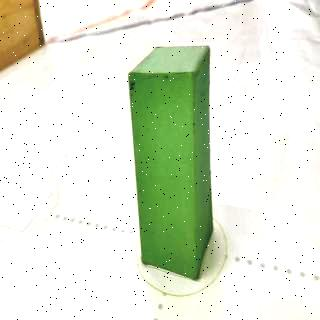greenbox: (126, 43, 214, 282)
